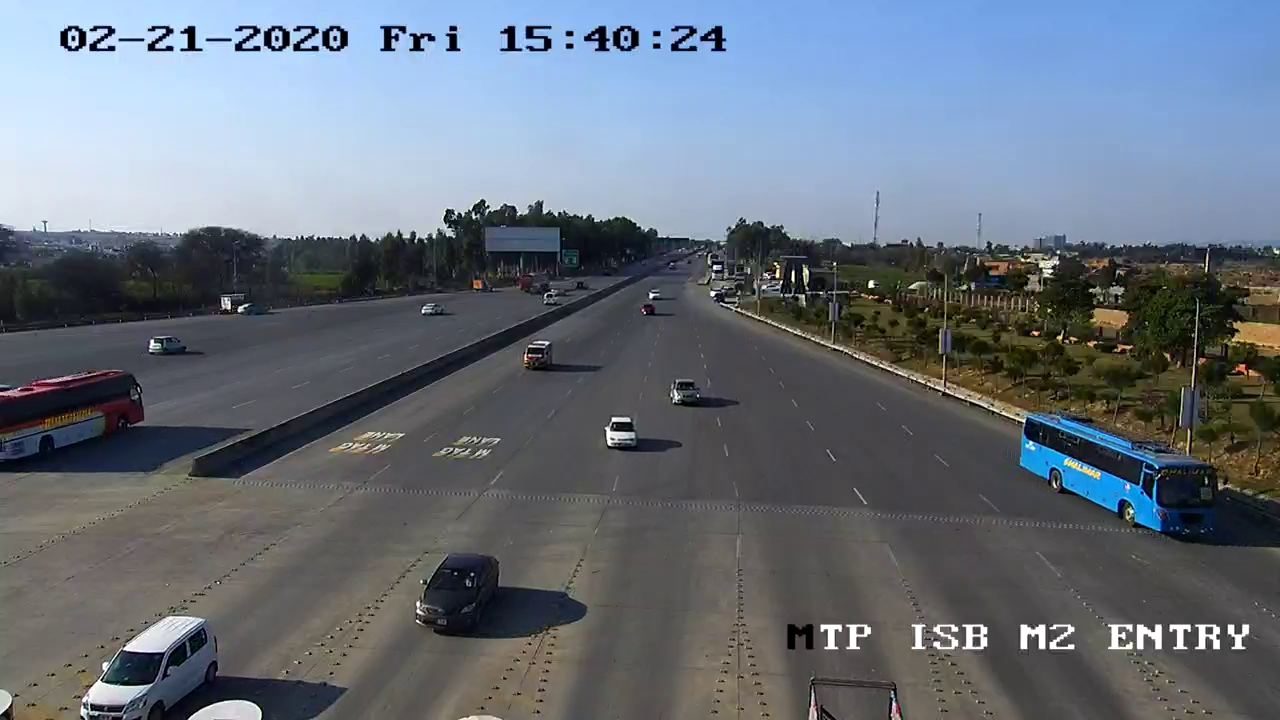f1: (414, 553, 504, 633), (599, 411, 642, 458)
f4: (1009, 405, 1224, 555)
